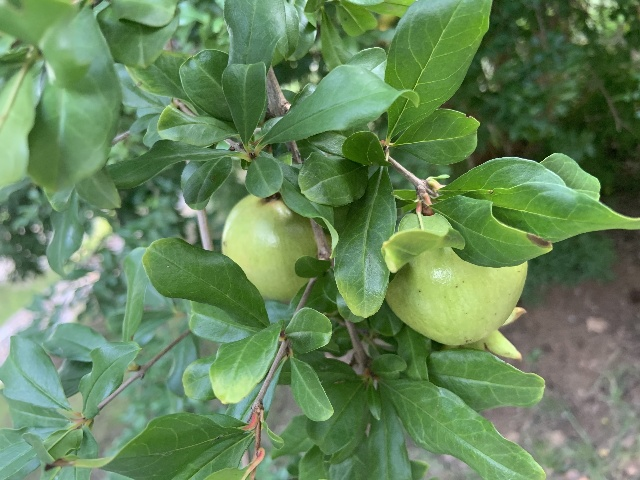mid-growth: (383, 247, 528, 360), (221, 194, 318, 302)
